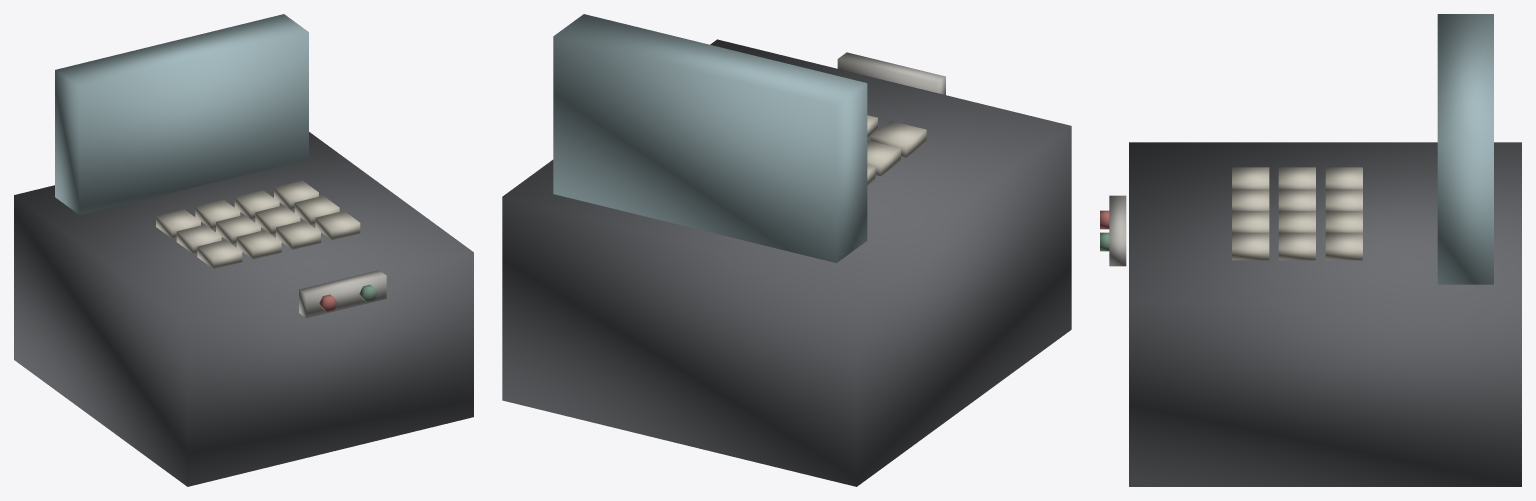
The model's file is cash_register.glb.
3 views of the same model, side by side, from view 1: azimuth 30°, elevation 25°; view 2: azimuth 150°, elevation 25°; view 3: azimuth 270°, elevation 25° (orthographic). The views are drawn at different scales.
Visible parts, largest first — view 1: world; view 2: world; view 3: world.
Boxes of the visible parts, <box> form: world: <box>14,14,473,486</box>; world: <box>502,14,1071,486</box>; world: <box>1100,14,1521,486</box>.
Size of the model in its own units: 0.4 by 0.39 by 0.451.
